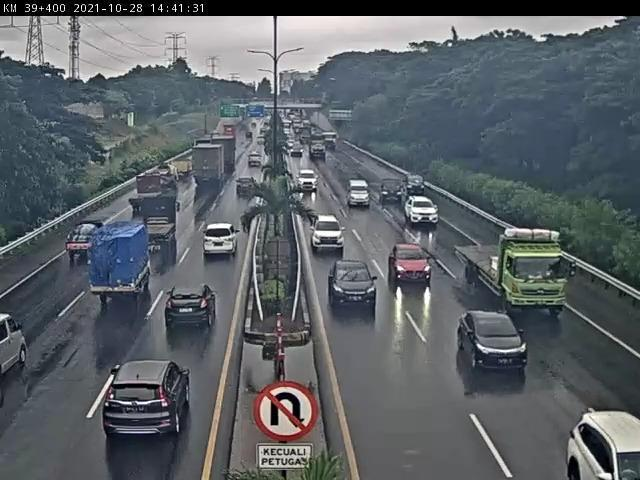car: (104, 360, 192, 439), (457, 311, 530, 372), (329, 261, 378, 311), (164, 285, 218, 329), (389, 244, 433, 287), (66, 220, 106, 262), (310, 215, 346, 253), (203, 223, 240, 256), (406, 197, 440, 226), (347, 180, 371, 208), (380, 180, 404, 204), (297, 170, 318, 192), (236, 177, 258, 198)
truck: (456, 228, 571, 315), (87, 222, 152, 300), (131, 196, 180, 251), (130, 176, 165, 211), (153, 164, 179, 192)
